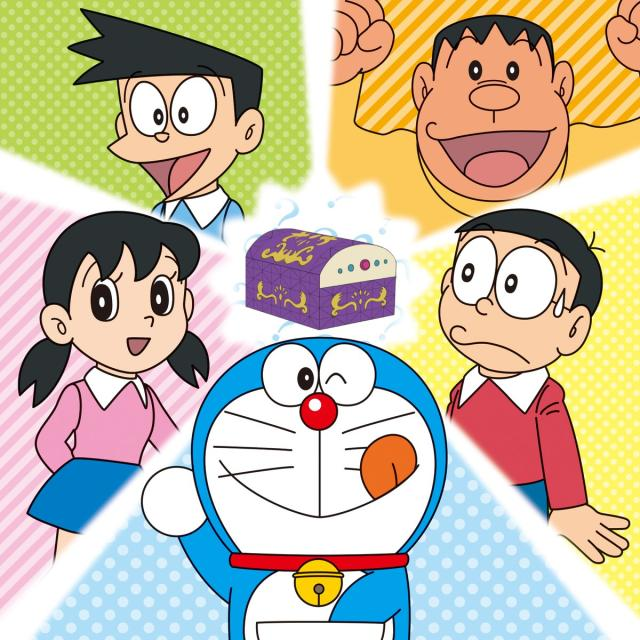doraemon: (168, 323, 497, 636)
jaian: (391, 4, 610, 215)
nobita: (417, 199, 622, 408)
shizuka: (11, 205, 229, 418)
suneo: (53, 2, 285, 229)
